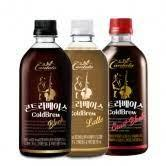contrabass_sweetblack: (106, 16, 151, 156)
